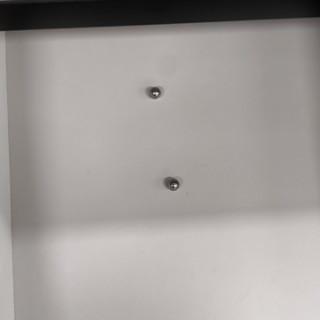ironball: (159, 167, 184, 200), (146, 80, 166, 107)
